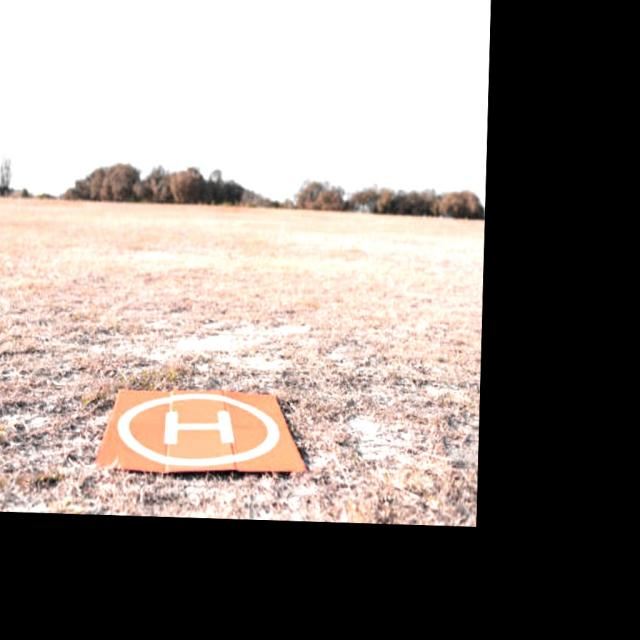helipad: (110, 388, 283, 469)
